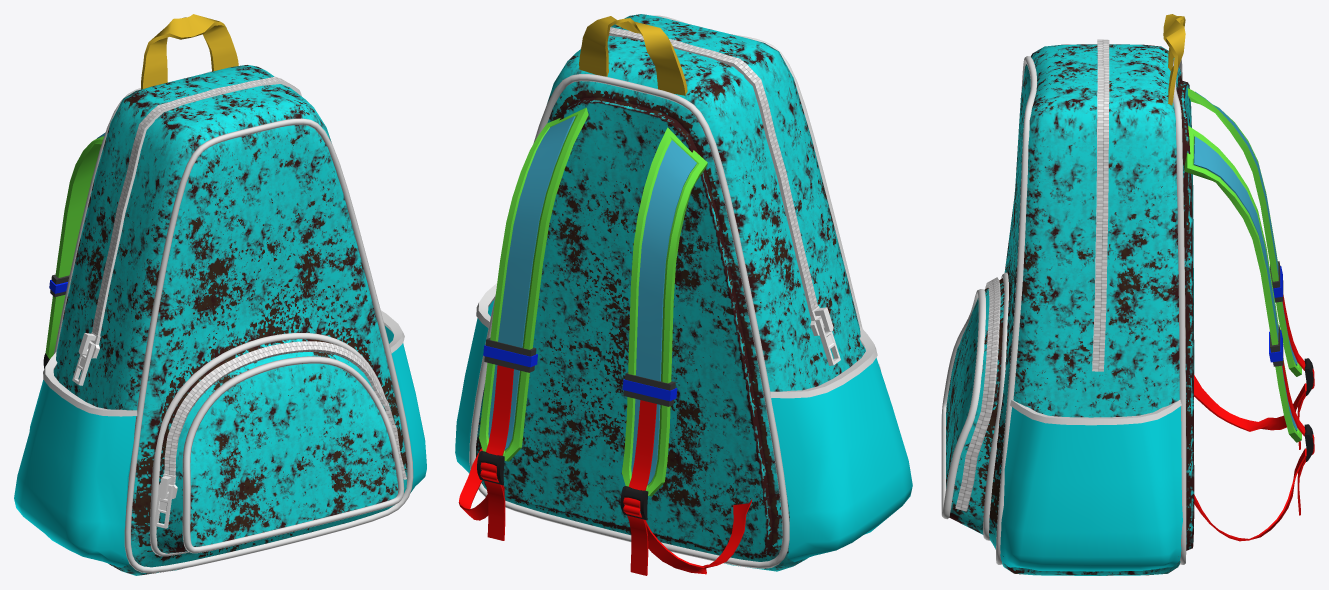
The model's file is Ranac 8.FBX.
The picture shows the model from 3 angles, left to right: view 1: azimuth 30°, elevation 25°; view 2: azimuth 150°, elevation 25°; view 3: azimuth 270°, elevation 25°; orthographic projection. The views are drawn at different scales.
Visible parts, largest first — view 1: Box042, Object036, Shape040, Object031; view 2: Box042, Object036, Shape040, Object031; view 3: Box042, Object036, Shape040, Object031.
Boxes of the visible parts, x1,y1,x2,y2 form: Box042: (53, 65, 407, 575); Object036: (14, 14, 426, 567); Shape040: (43, 71, 413, 573); Object031: (72, 76, 406, 528); Box042: (476, 14, 864, 571); Object036: (455, 16, 912, 575); Shape040: (469, 15, 877, 568); Object031: (580, 27, 881, 371); Box042: (946, 44, 1194, 575); Object036: (1000, 14, 1314, 571); Shape040: (941, 56, 1186, 564); Object031: (955, 39, 1109, 511).
Bounding box in the file's own units: 114 × 147 × 99.48.
